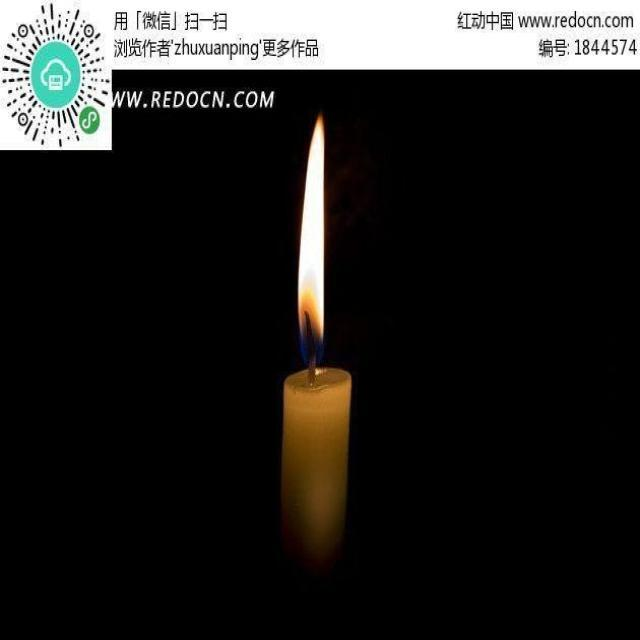Fire: (296, 109, 324, 341)
